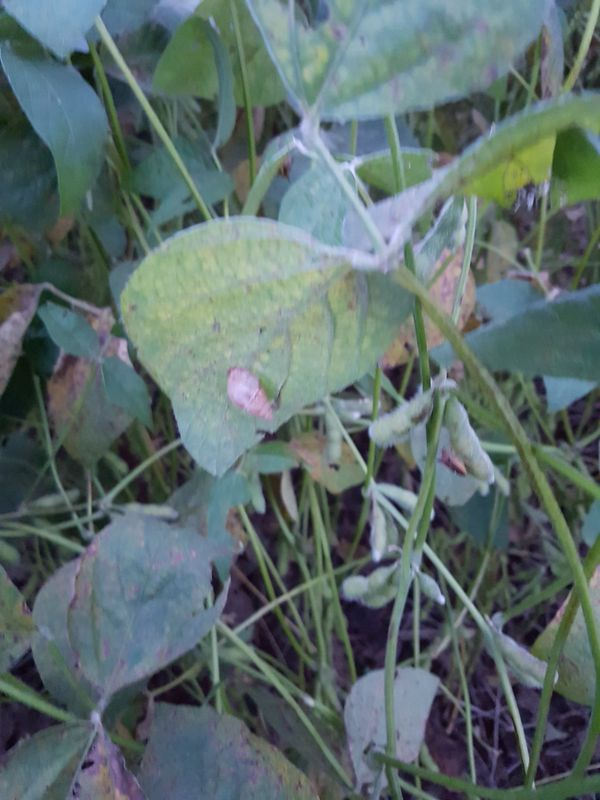Euschistus_heros_adulto: (431, 445, 474, 483)
Gastropoda: (211, 364, 281, 427)
